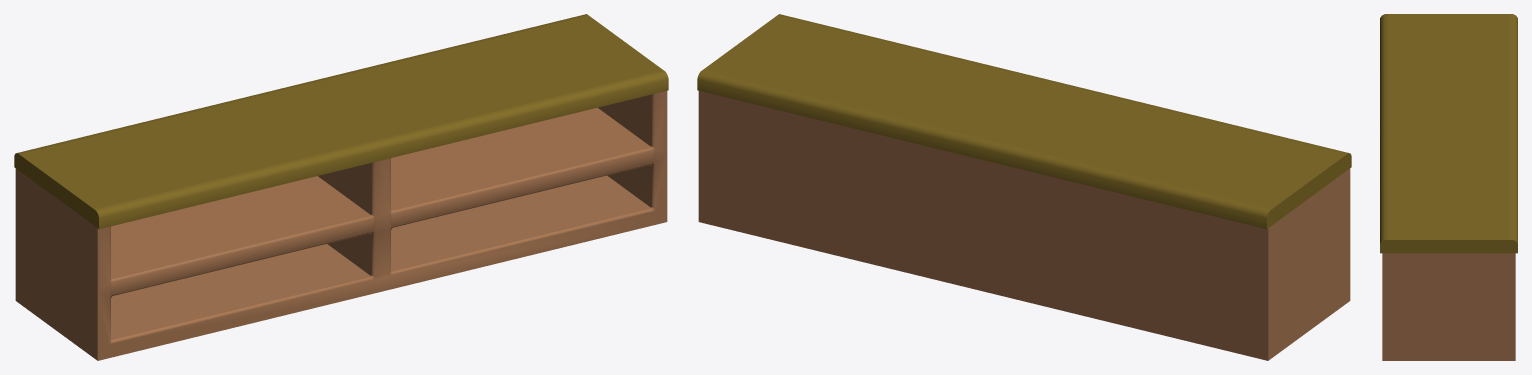
The model's file is DI_061_cabinet_var01.glb.
3 renders of one model, left to right at view 1: azimuth 30°, elevation 25°; view 2: azimuth 150°, elevation 25°; view 3: azimuth 270°, elevation 25°, orthographic. The views are drawn at different scales.
Visible parts, largest first — view 1: Cabinet.005; view 2: Cabinet.005; view 3: Cabinet.005.
Part boxes in pixels (box(x1,y1,x2,y2)): Cabinet.005: box(14, 14, 668, 360); Cabinet.005: box(697, 14, 1351, 360); Cabinet.005: box(1380, 14, 1517, 360).
Size of the model in its own units: 3 by 0.75 by 0.7743.
